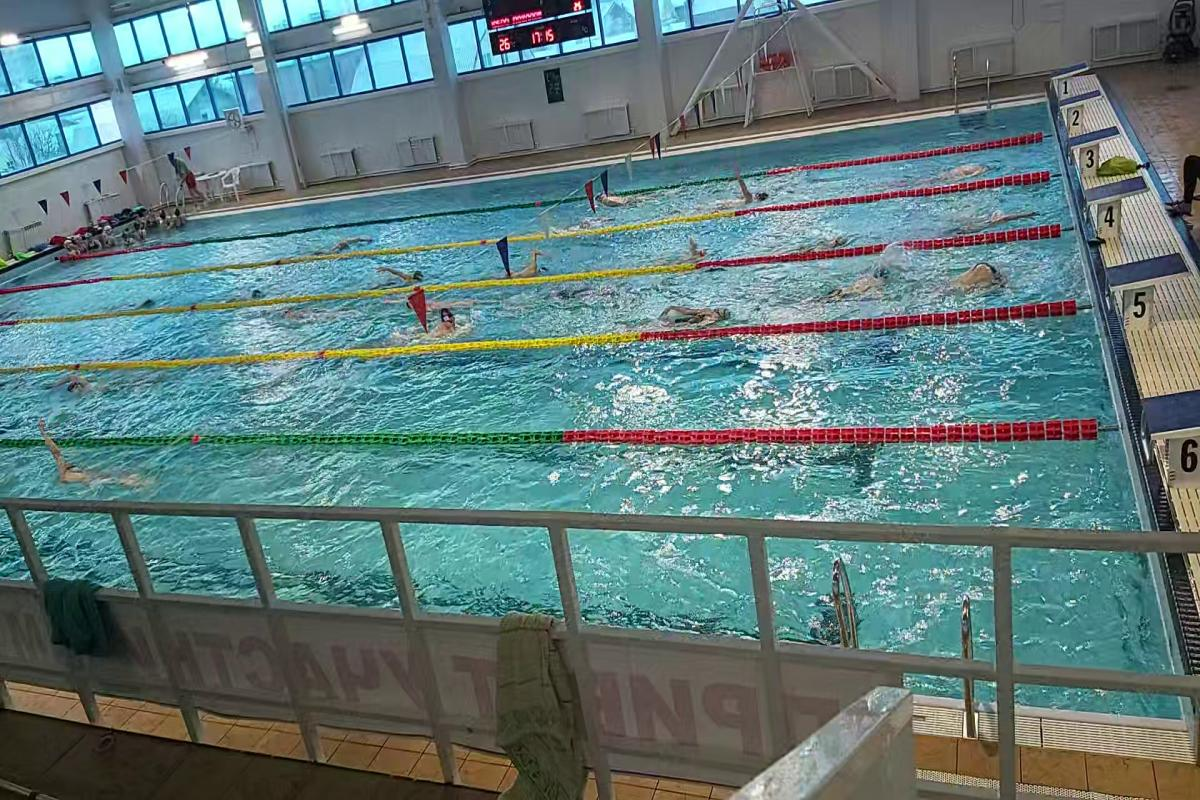swimmer: (39, 441, 151, 495), (831, 247, 908, 309), (622, 297, 739, 333), (40, 364, 143, 404), (944, 256, 1027, 300), (391, 308, 483, 342), (592, 189, 677, 209), (723, 178, 773, 209), (803, 226, 862, 252), (369, 262, 433, 285), (510, 251, 558, 280), (662, 238, 717, 262), (319, 233, 377, 250)
